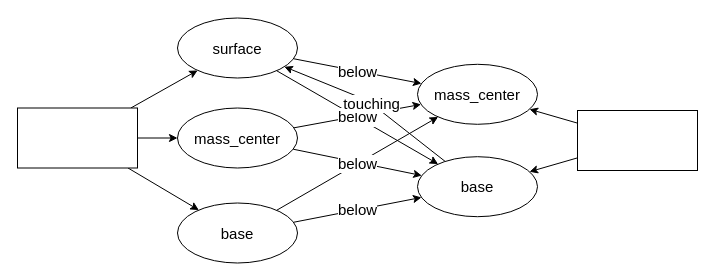
The diagram is 715 pixels wide and 280 high, and some of its shapes have lost their labels. Each missing label, with the box of its shape:
object_0: (16, 107, 138, 168)
object_1: (576, 110, 698, 170)
